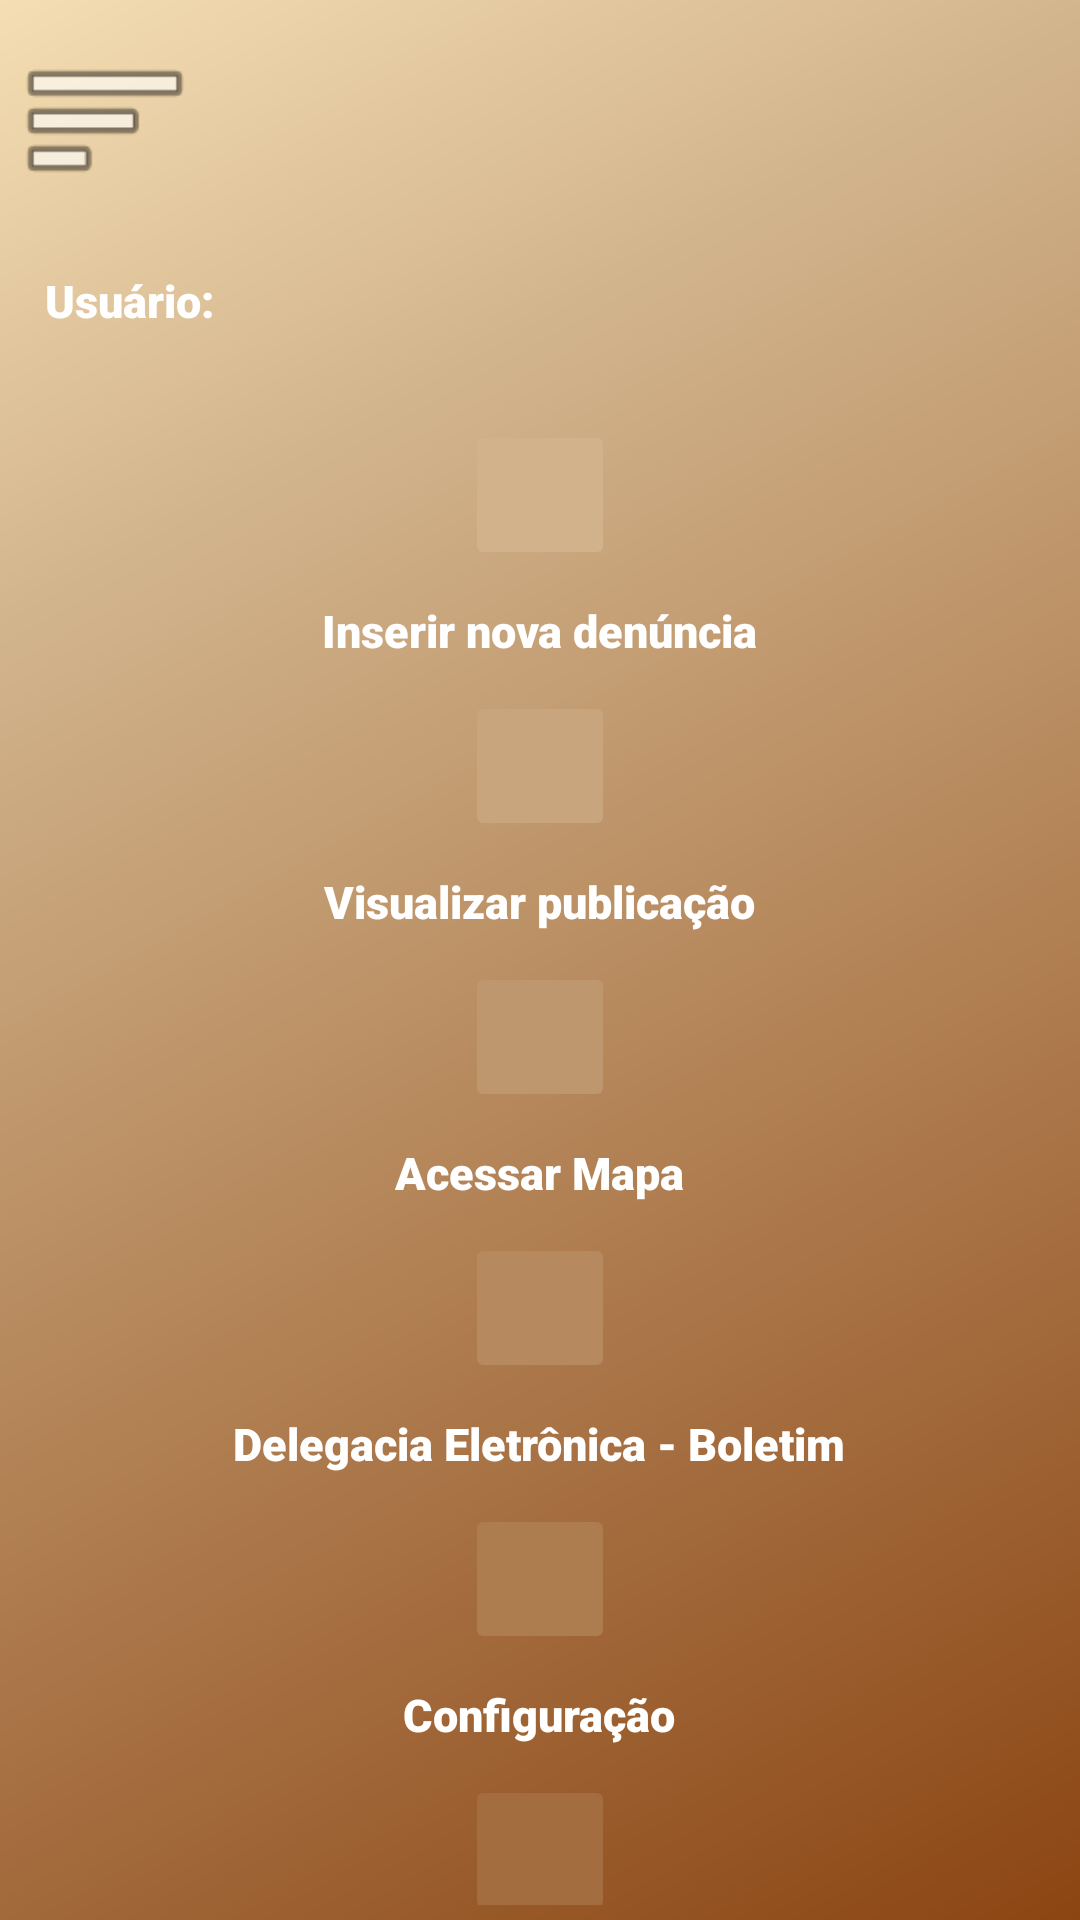

Icon click points for this 1080px×1920px phone screenshot, format point (x, y):
sort by size: point (105, 121)
